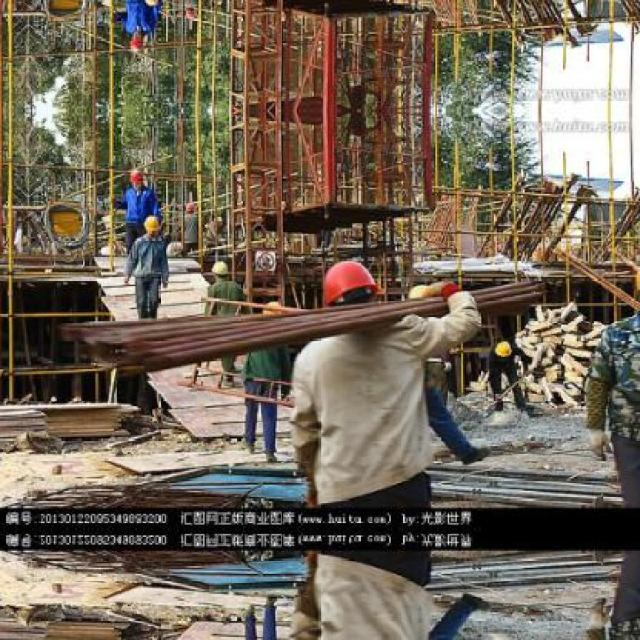helmet: (315, 252, 383, 320), (208, 256, 228, 282), (142, 212, 160, 234), (128, 30, 143, 53), (128, 166, 143, 188), (182, 198, 196, 212), (182, 7, 196, 21), (142, 0, 160, 8)
